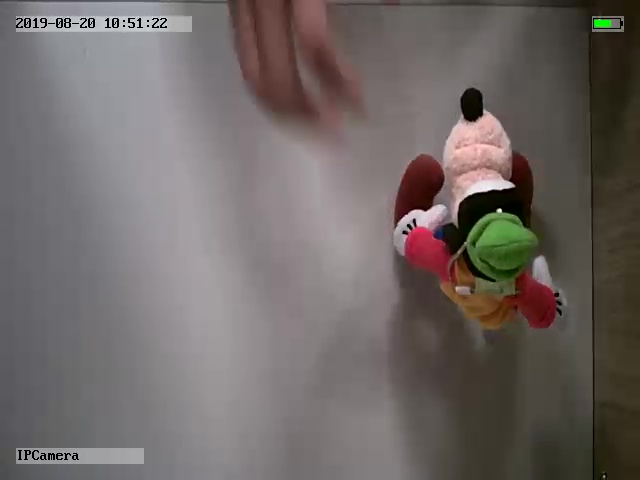goofy: (392, 86, 570, 332)
